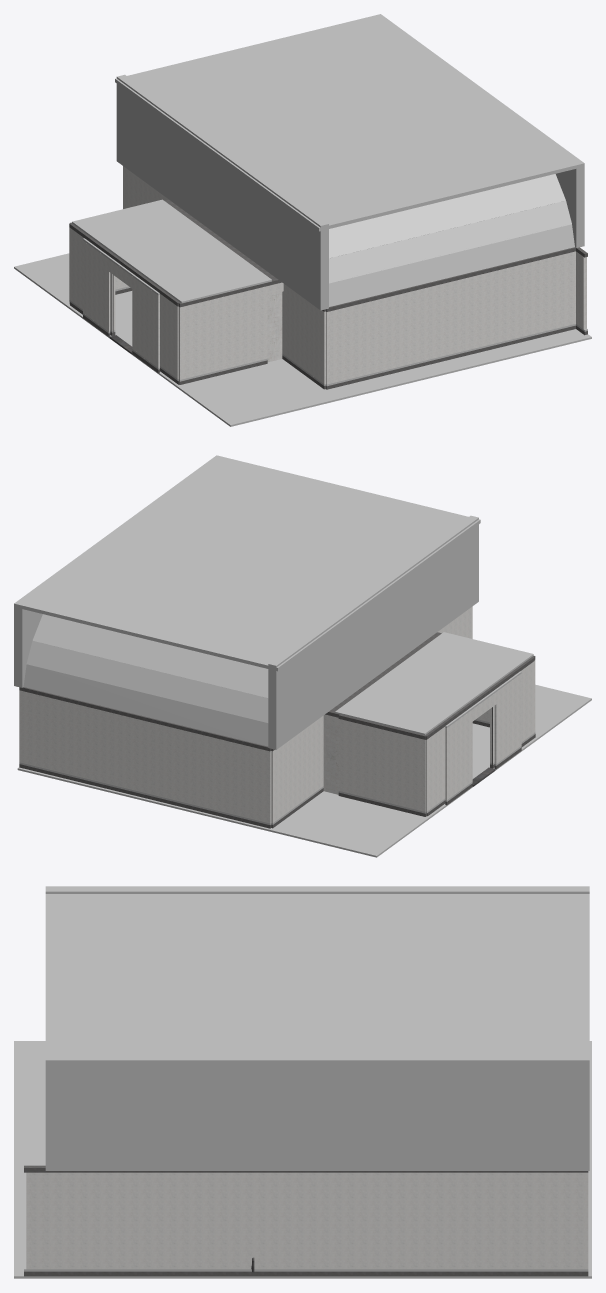
File: scp_room_372.dae
3 renders of one model, top to bottom at view 1: azimuth 30°, elevation 25°; view 2: azimuth 150°, elevation 25°; view 3: azimuth 270°, elevation 25°, orthographic. The views are drawn at different scales.
Parts seen in each view (by area): view 1: SCP 372 Containment Chamber.005, SCP 372 Containment Chamber.007, SCP 372 Containment Chamber.010, SCP 372 Containment Chamber.009, SCP 372 Containment Chamber.008, SCP 372 Containment Chamber.016; view 2: SCP 372 Containment Chamber.005, SCP 372 Containment Chamber.007, SCP 372 Containment Chamber.010, SCP 372 Containment Chamber.009, SCP 372 Containment Chamber.008, SCP 372 Containment Chamber.016; view 3: SCP 372 Containment Chamber.005, SCP 372 Containment Chamber.007, SCP 372 Containment Chamber.010, SCP 372 Containment Chamber.009, SCP 372 Containment Chamber.008.
Boxes of the visible parts, left/top/right/bottom form: SCP 372 Containment Chamber.005: left=72, top=14, right=584, bottom=310; SCP 372 Containment Chamber.007: left=69, top=166, right=586, bottom=384; SCP 372 Containment Chamber.010: left=14, top=253, right=591, bottom=426; SCP 372 Containment Chamber.009: left=69, top=200, right=587, bottom=389; SCP 372 Containment Chamber.008: left=69, top=238, right=587, bottom=386; SCP 372 Containment Chamber.016: left=267, top=292, right=282, bottom=362; SCP 372 Containment Chamber.005: left=14, top=455, right=533, bottom=749; SCP 372 Containment Chamber.007: left=19, top=606, right=535, bottom=823; SCP 372 Containment Chamber.010: left=17, top=684, right=591, bottom=857; SCP 372 Containment Chamber.009: left=19, top=632, right=535, bottom=828; SCP 372 Containment Chamber.008: left=19, top=671, right=535, bottom=824; SCP 372 Containment Chamber.016: left=323, top=723, right=338, bottom=794; SCP 372 Containment Chamber.005: left=45, top=886, right=589, bottom=1170; SCP 372 Containment Chamber.007: left=26, top=1172, right=588, bottom=1269; SCP 372 Containment Chamber.010: left=14, top=1041, right=591, bottom=1278; SCP 372 Containment Chamber.009: left=24, top=1165, right=588, bottom=1276; SCP 372 Containment Chamber.008: left=24, top=1267, right=588, bottom=1271.
Size of the model in its own units: 50.09 by 45.46 by 19.4.
